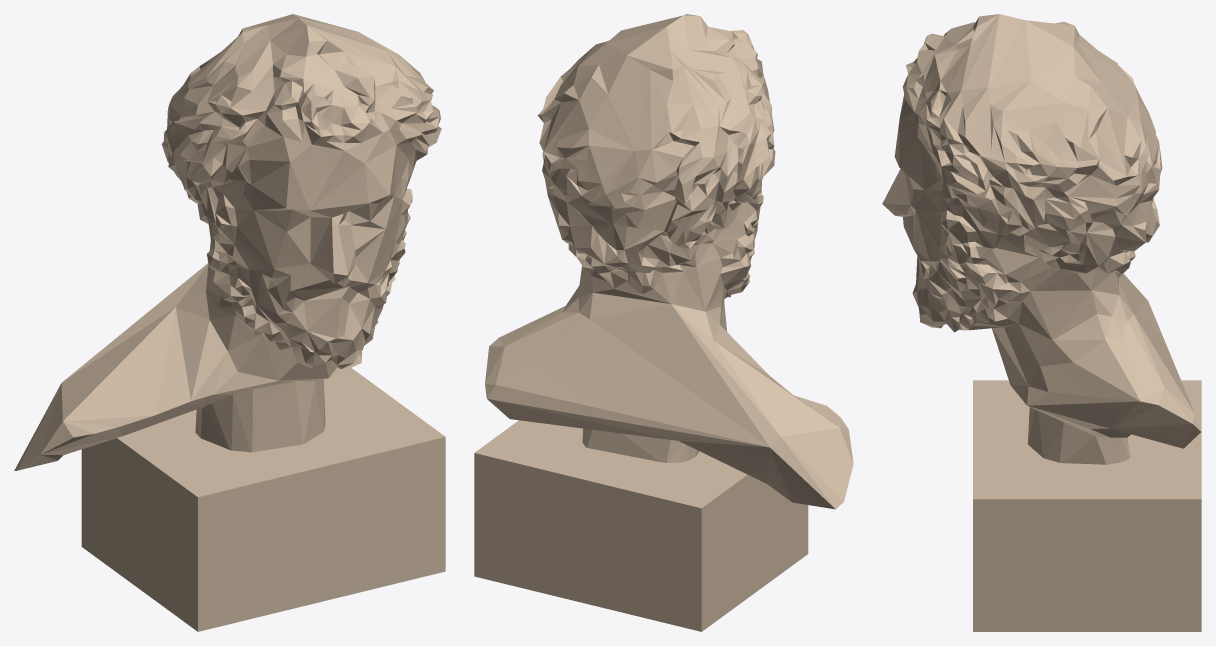
File: Bust.fbx
The picture shows the model from 3 angles, left to right: view 1: azimuth 30°, elevation 25°; view 2: azimuth 150°, elevation 25°; view 3: azimuth 270°, elevation 25°; orthographic projection. The views are drawn at different scales.
Visible parts, largest first — view 1: bb-exported; view 2: bb-exported; view 3: bb-exported.
Boxes of the visible parts, <box> form: bb-exported: <box>14,14,445,631</box>; bb-exported: <box>474,14,853,631</box>; bb-exported: <box>882,14,1201,631</box>.
Size of the model in its own units: 38.75 by 57.68 by 29.96.
